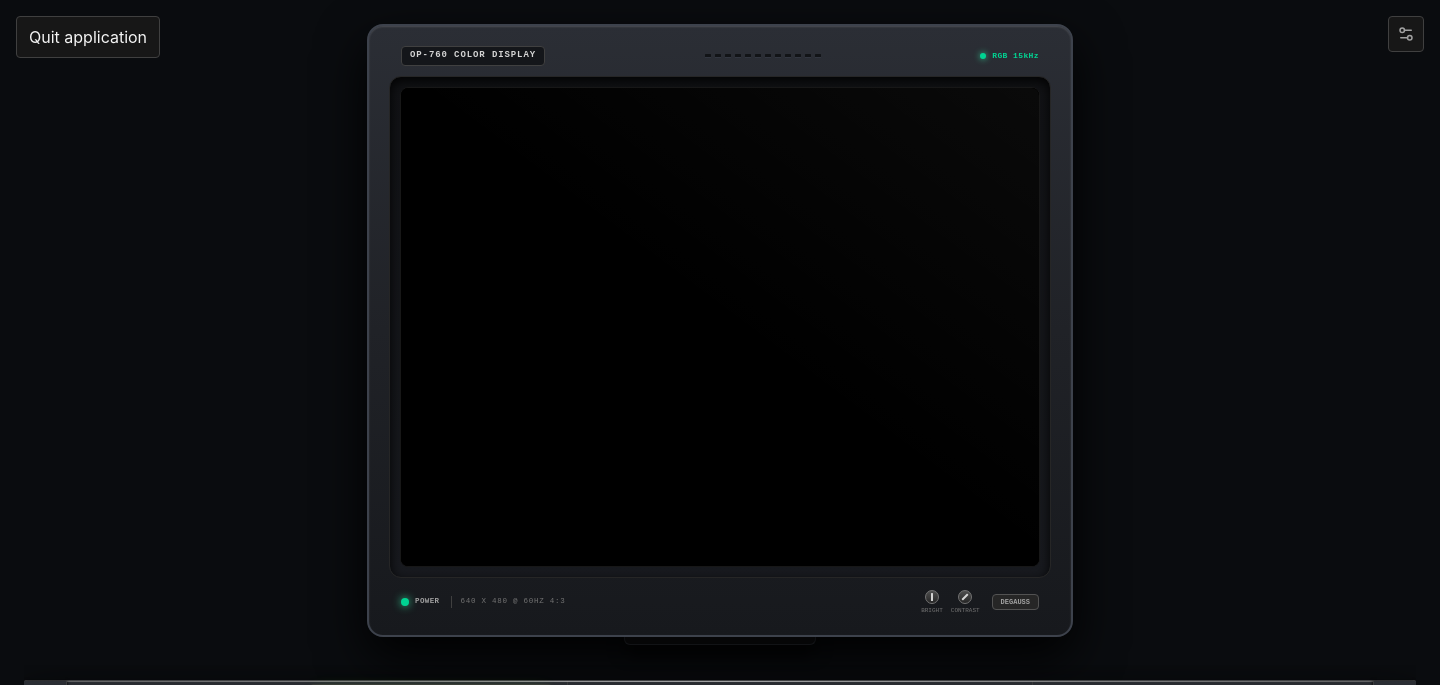
NativeStudio real-machine controls › exports only on request and waits for the backend result
Click the button named "Configuration" at (1406, 34), box [1388,16,1424,52]
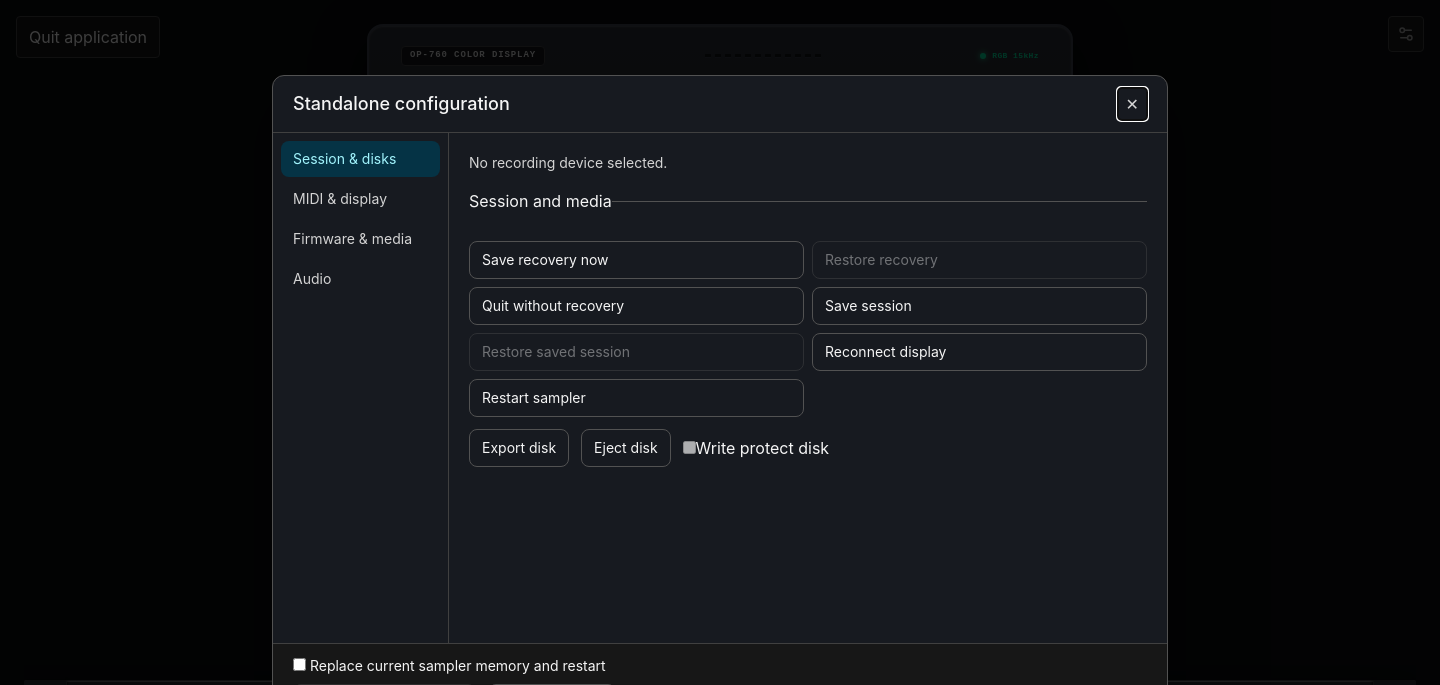
Click the button "Export disk" at (519, 448), box [469,429,569,467]
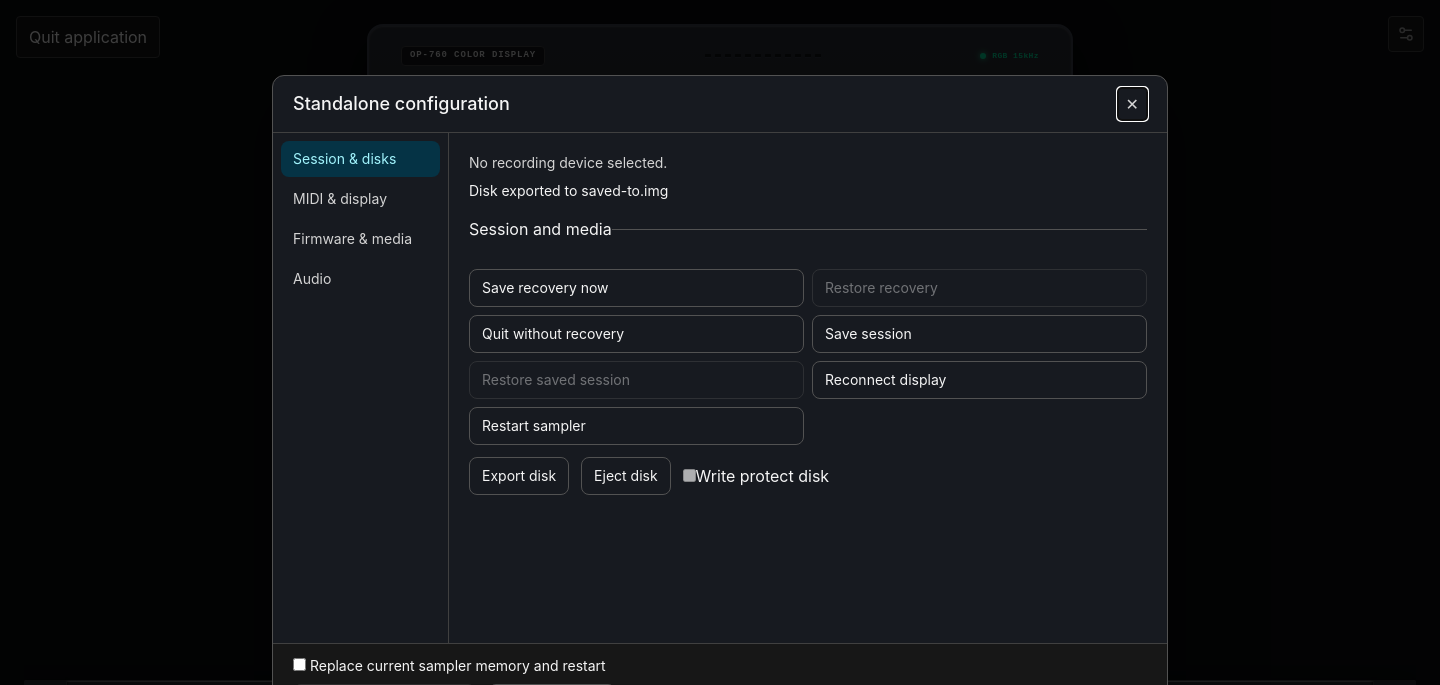
Expected: the text "Disk exported to saved-to.img" is shown, [469,182,668,199]
